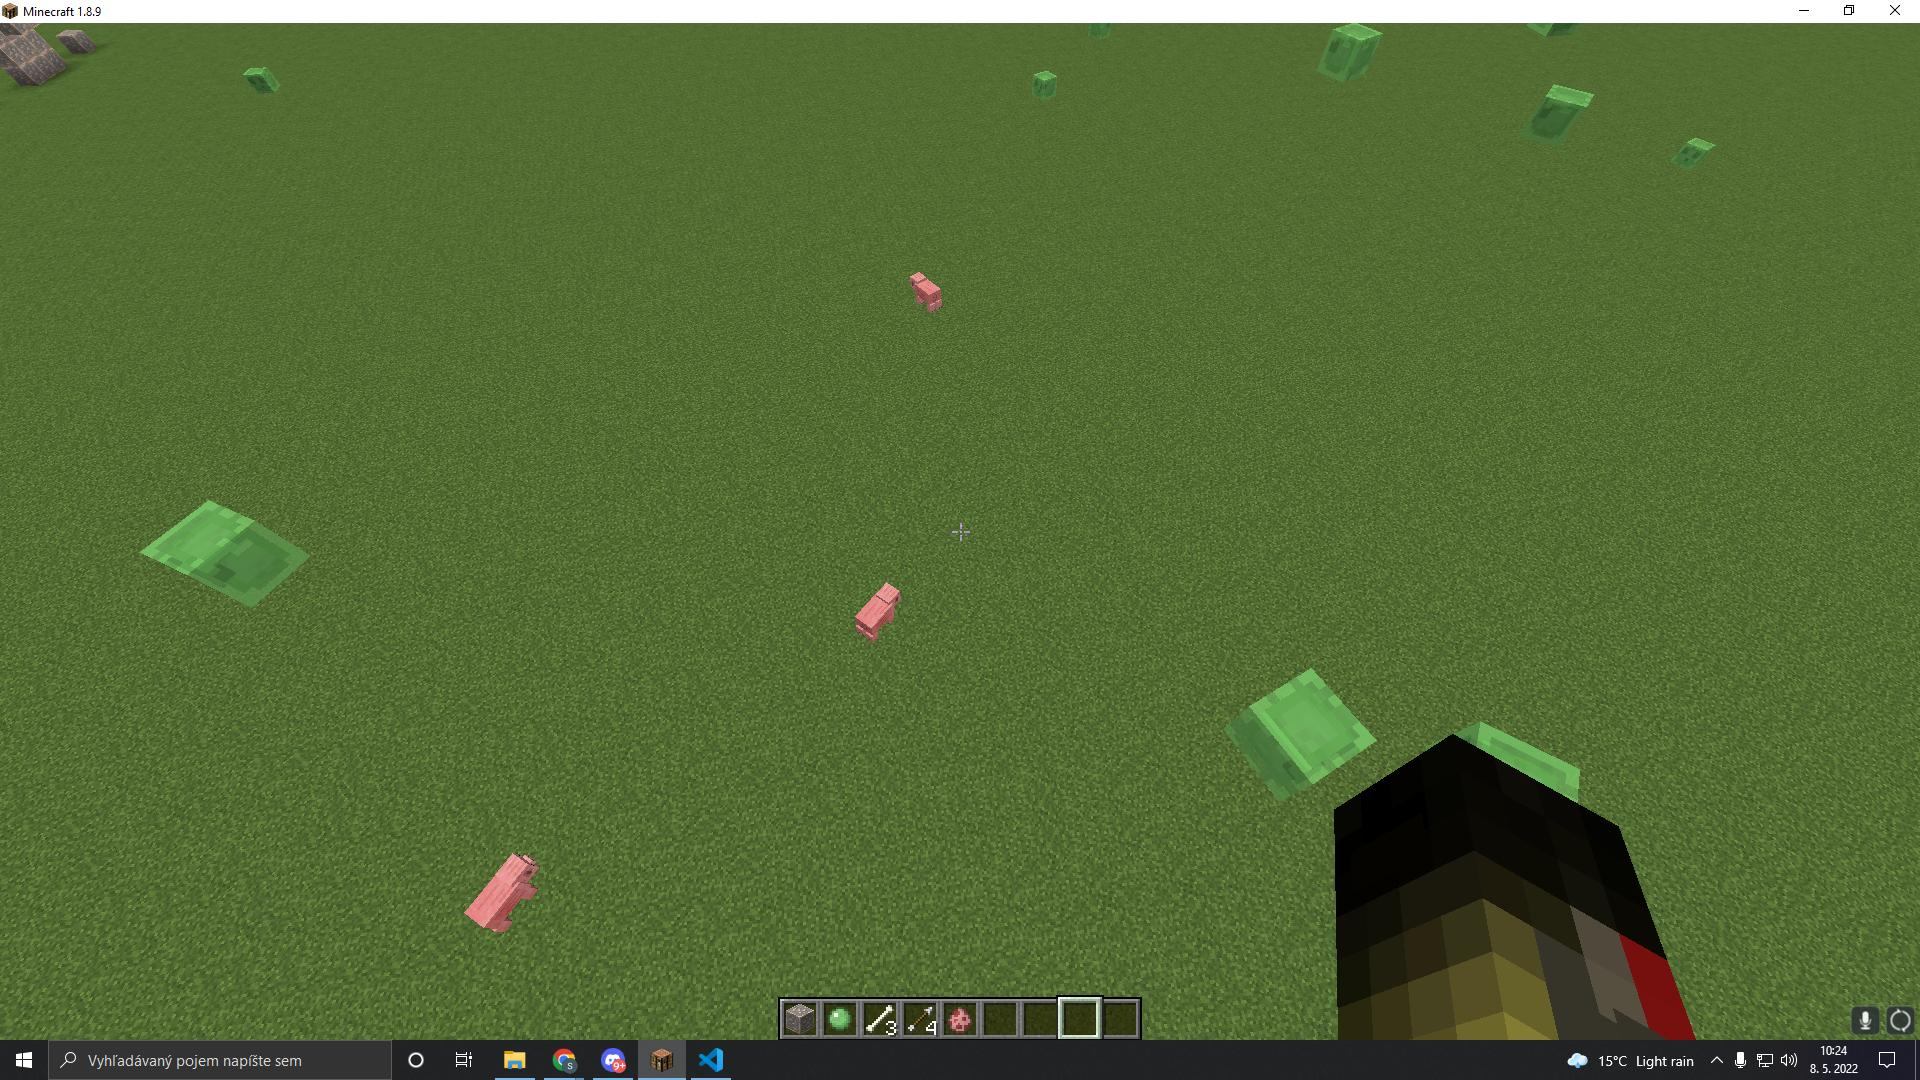pig: (458, 835, 554, 945), (844, 572, 914, 653), (901, 255, 959, 324)
